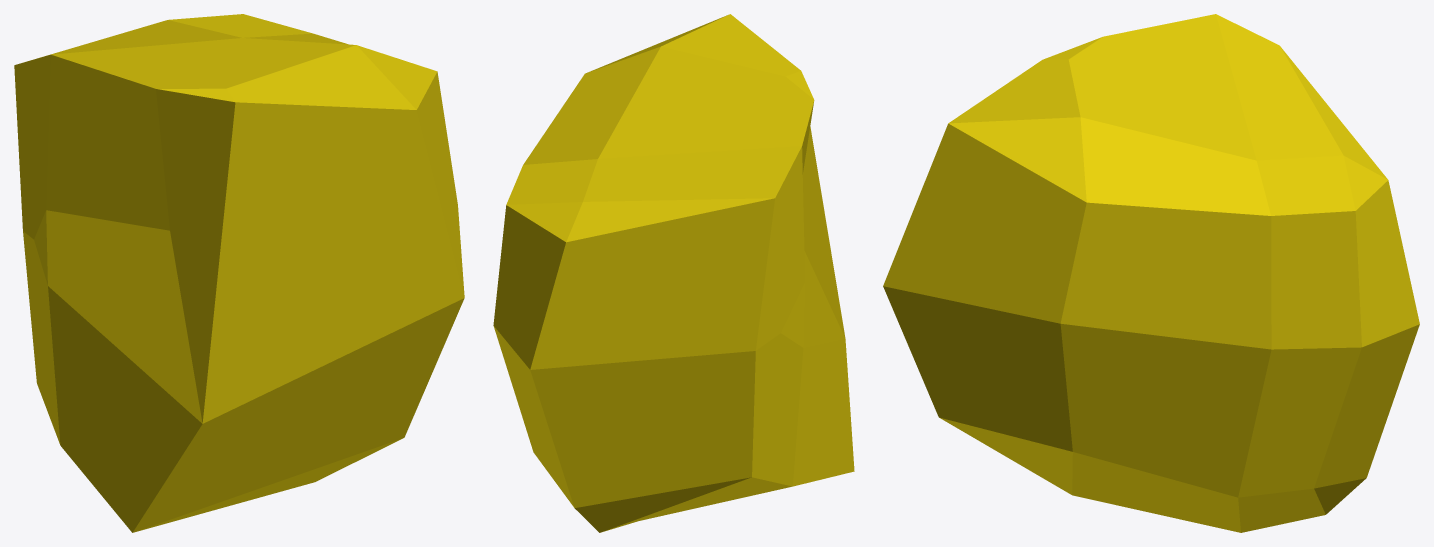
Rendered from Nugget1_Gold.fbx.
3 renders of one model, left to right at view 1: azimuth 30°, elevation 25°; view 2: azimuth 150°, elevation 25°; view 3: azimuth 270°, elevation 25°, orthographic. The views are drawn at different scales.
Parts seen in each view (by area): view 1: Nugget1_Gold; view 2: Nugget1_Gold; view 3: Nugget1_Gold.
Boxes of the visible parts, <box> form: Nugget1_Gold: <box>14,14,464,532</box>; Nugget1_Gold: <box>493,14,854,532</box>; Nugget1_Gold: <box>883,14,1419,532</box>.
Size of the model in its own units: 25.47 by 34.73 by 38.13.
